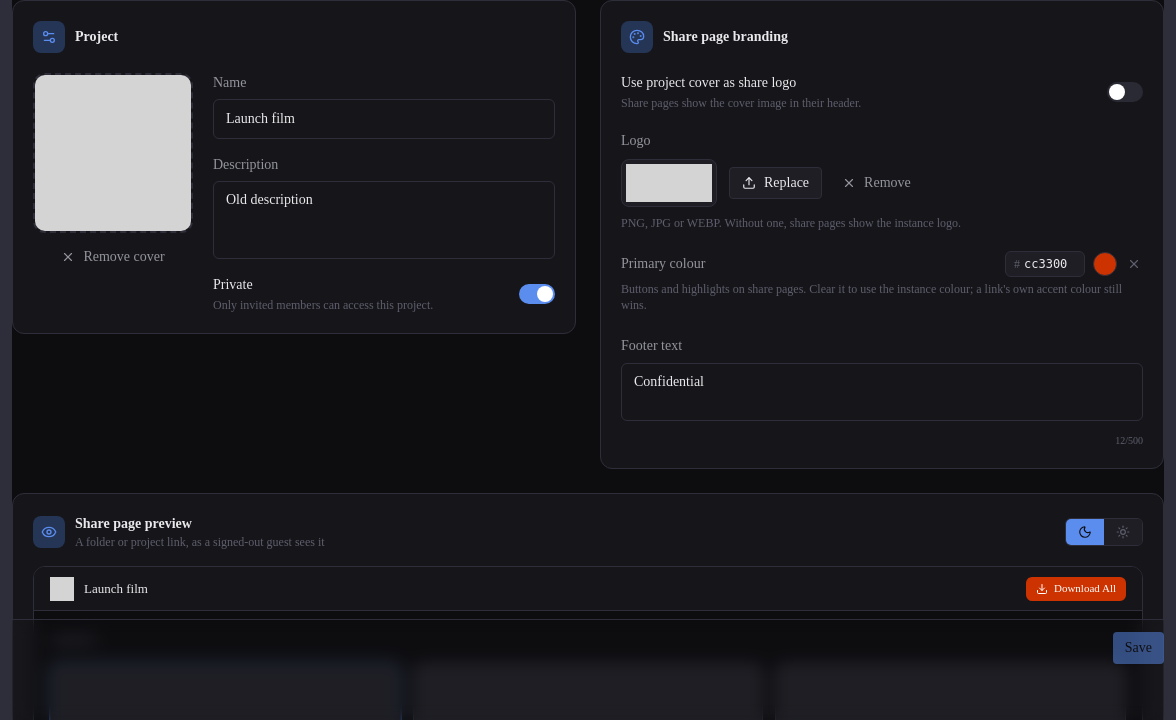
Test: project details › describes visibility the way the API applies it
Expected: the field named "Primary colour hex" is shown, [1020,252,1084,276]
Expected: the text "Only invited members can access this project." is shown, [213,297,433,313]
Click the switch named "Private" in the row of "Private" at (537, 294), box [519,284,555,304]
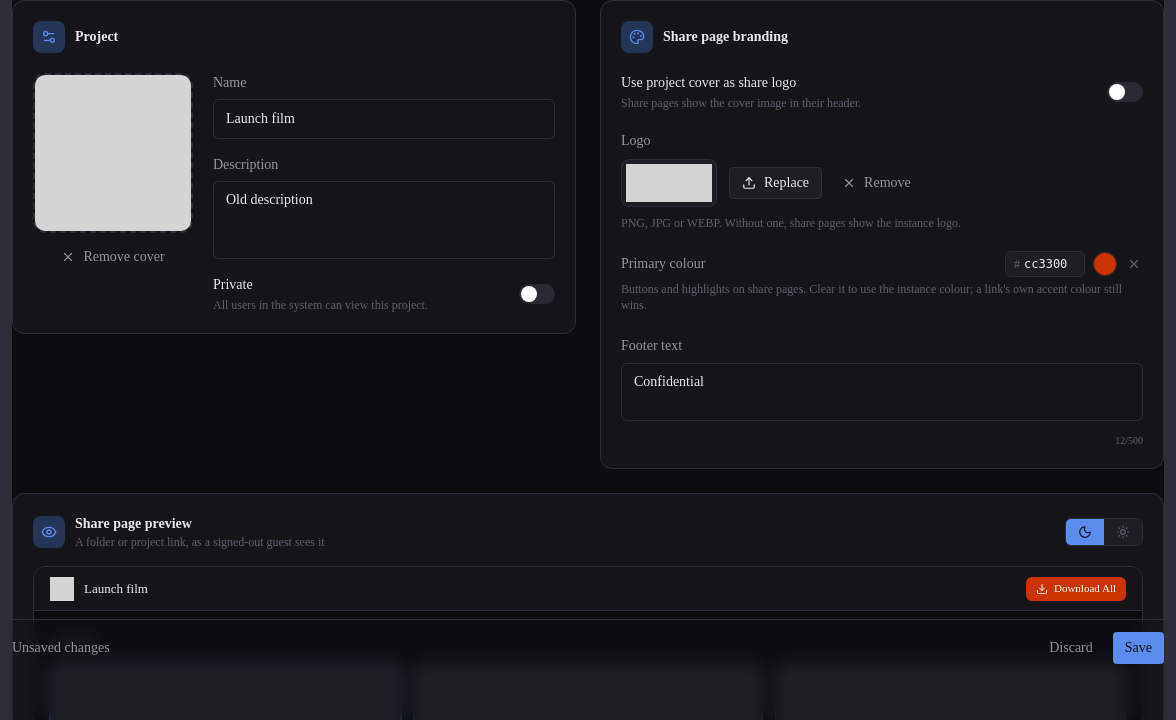
Result: the text "All users in the system can view this project." is shown at [213,297,428,313]
